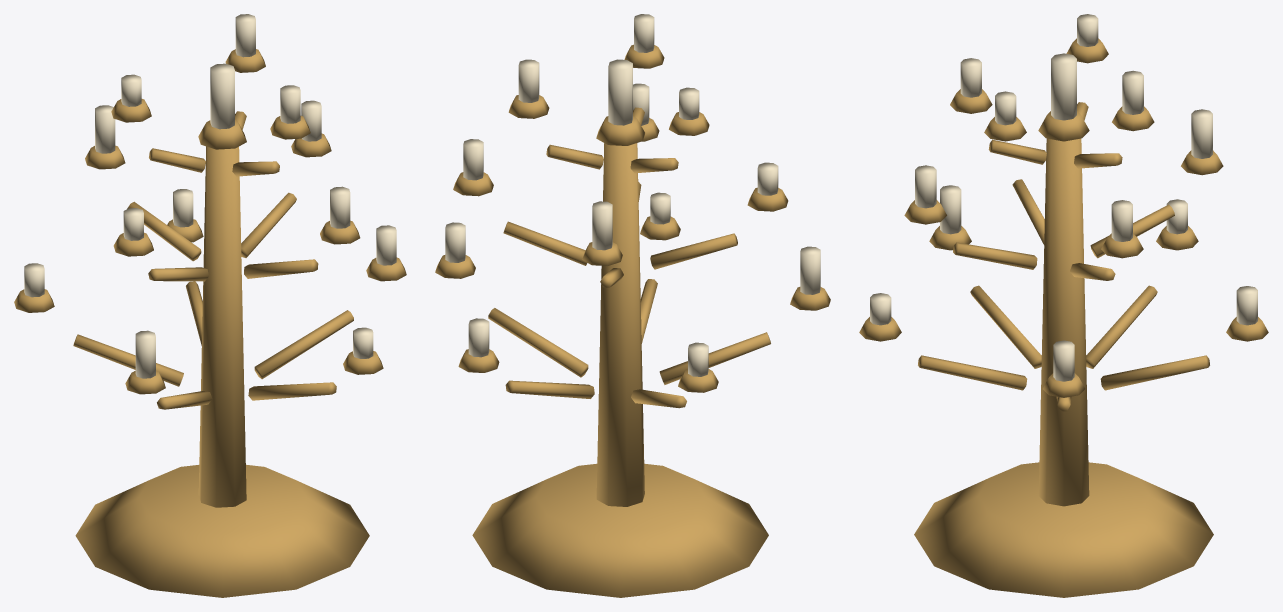
Rendered from ember_tree.glb.
3 views of the same model, side by side, from view 1: azimuth 30°, elevation 25°; view 2: azimuth 150°, elevation 25°; view 3: azimuth 270°, elevation 25° (orthographic).
Visible parts, largest first — view 1: ember_tree; view 2: ember_tree; view 3: ember_tree.
Part boxes in pixels (<box>): ember_tree: <box>14,14,406,597</box>; ember_tree: <box>435,14,830,597</box>; ember_tree: <box>859,14,1268,597</box>.
Size of the model in its own units: 1.83 by 2.51 by 1.91.
